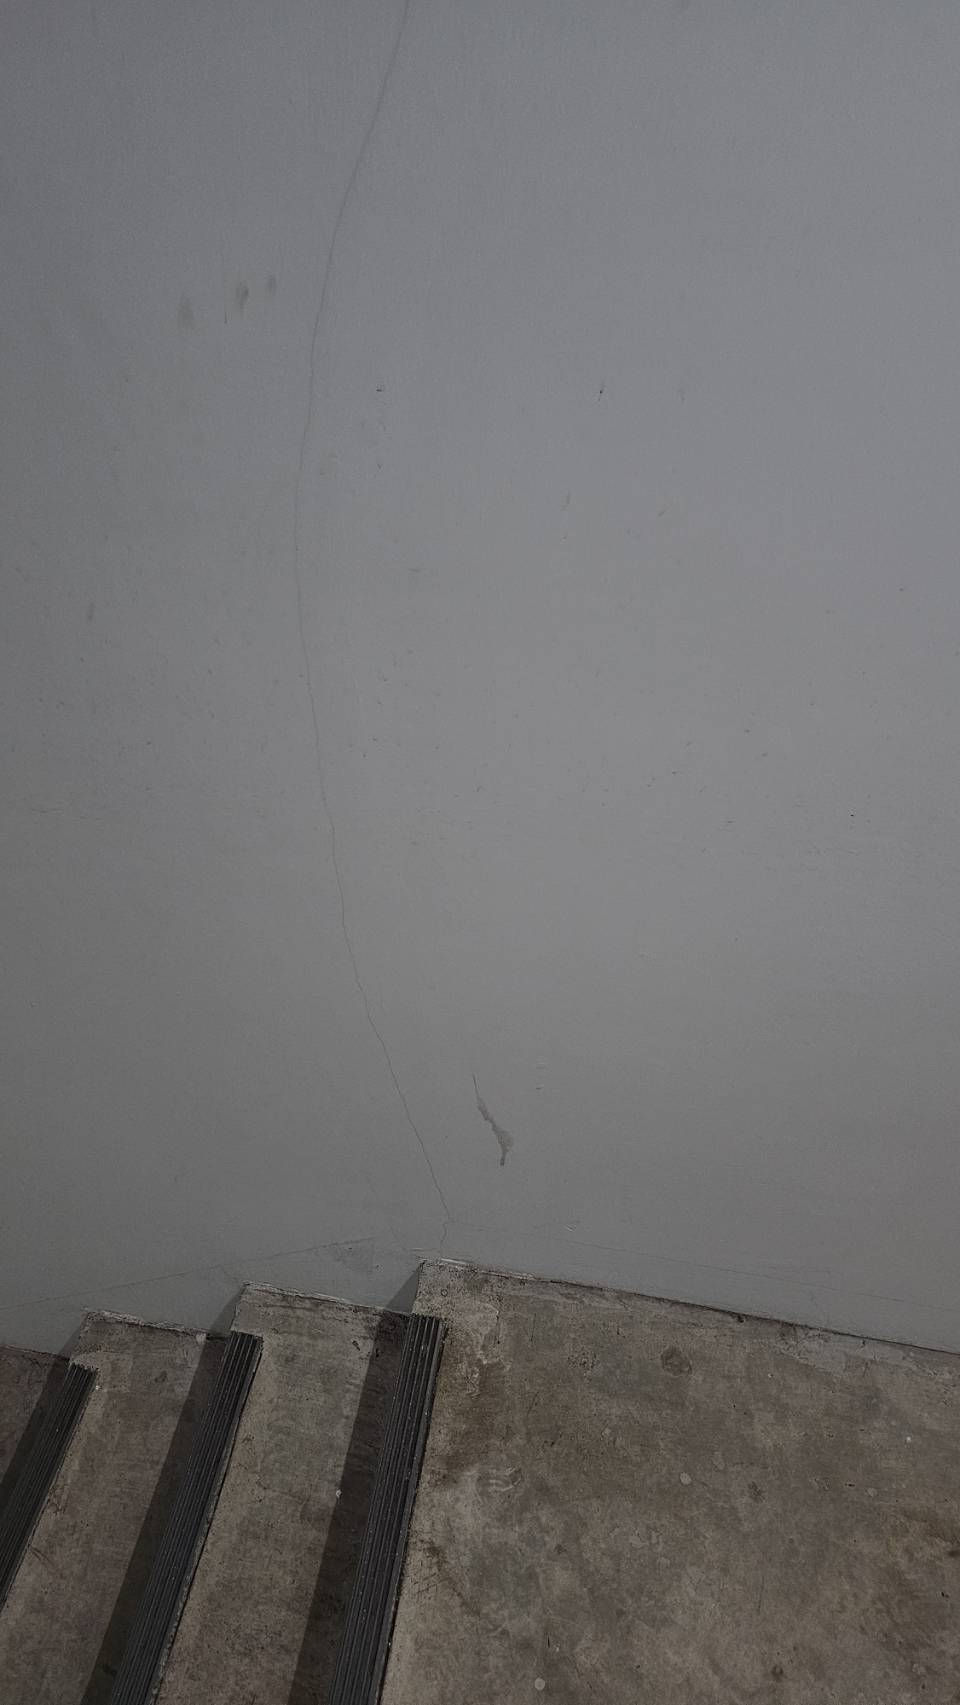Low: (296, 1, 418, 1223)
